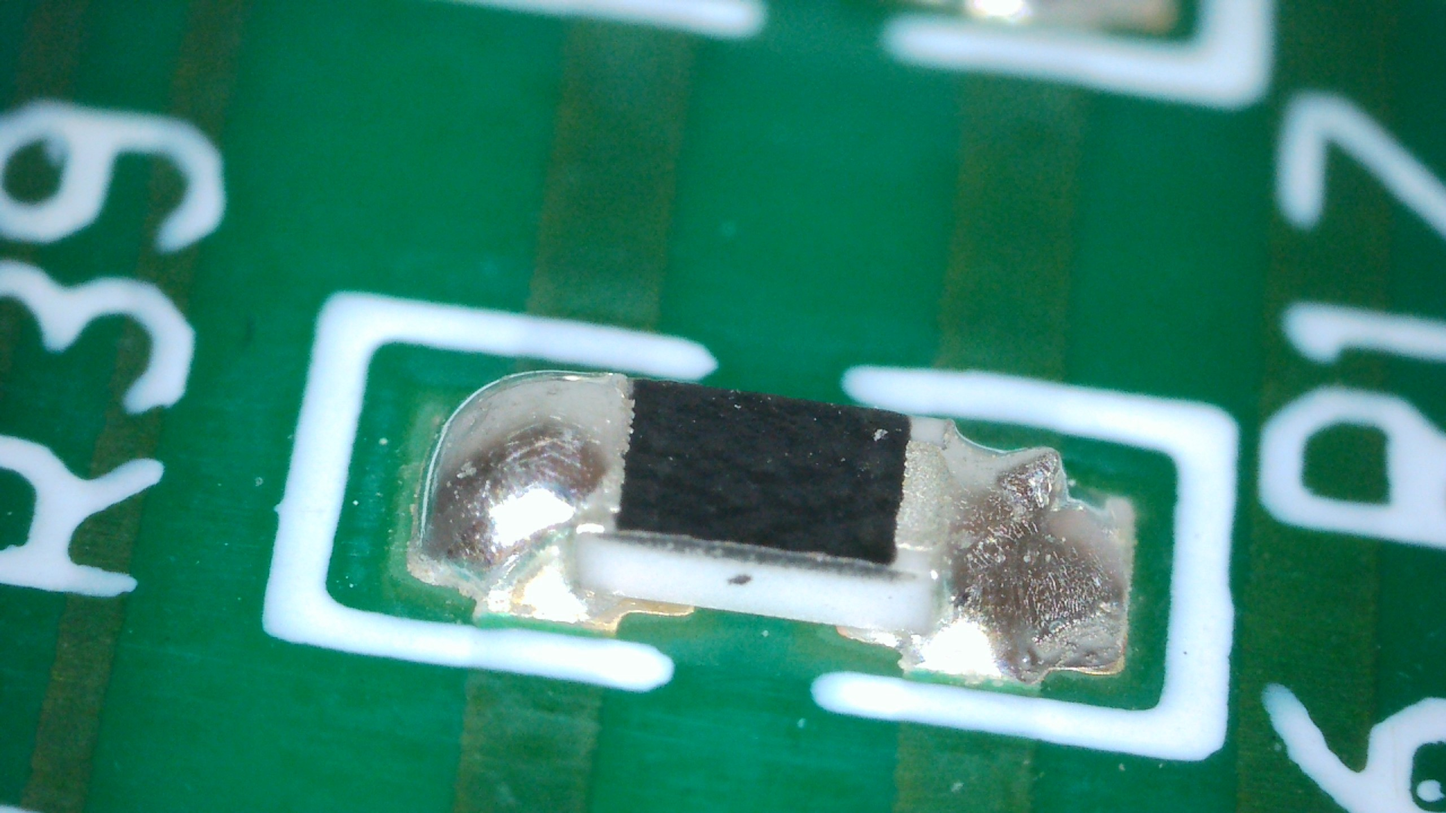NG: (420, 369, 635, 630), (944, 419, 1136, 677)
